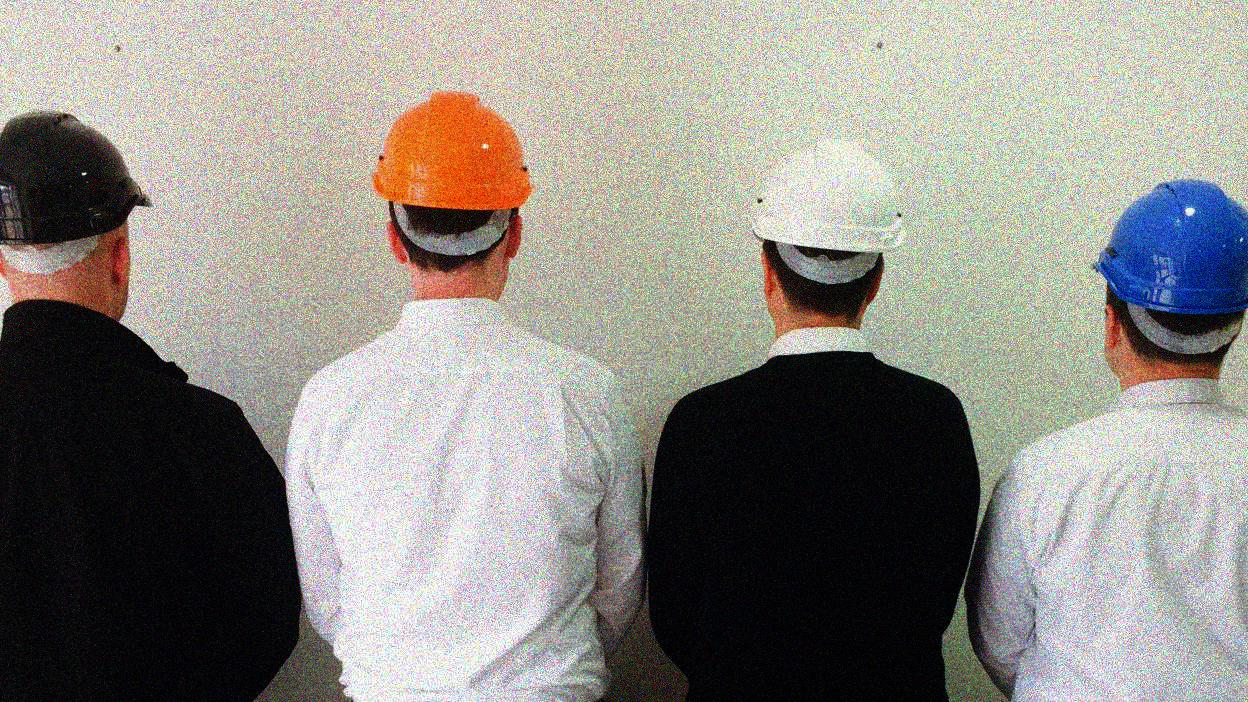helmet: (363, 83, 535, 309), (740, 133, 915, 338), (1, 107, 156, 323), (1087, 174, 1248, 380)
